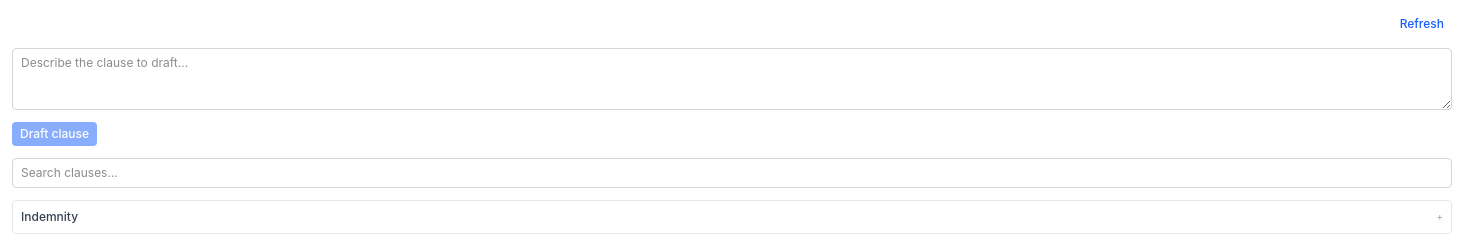
Test: ClausesPanel — paid tier › shows empty state for search with no matches
Expected: the text "Indemnity" is shown, [21,208,78,224]
Type "zzzzz" into the field with placeholder "Search clauses..." at (732, 172), box [12,158,1452,188]
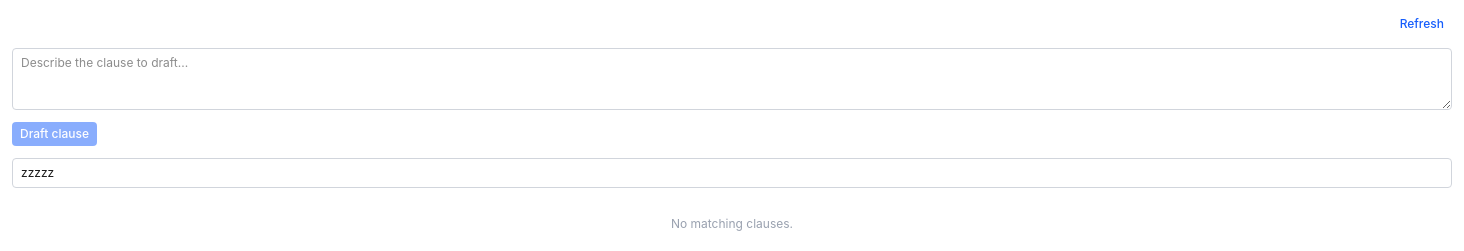
Now the text "No matching clauses." is shown, box [671,216,793,230]
